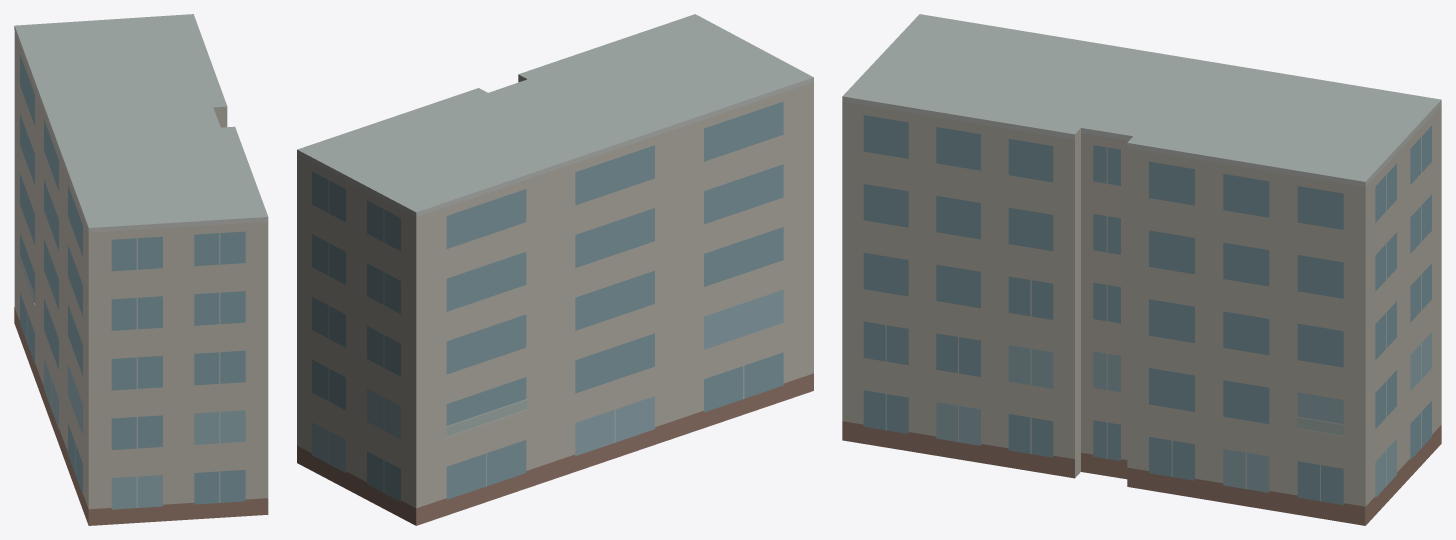
The model's file is survey-upis-32937447.glb.
3 renders of one model, left to right at view 1: azimuth 30°, elevation 25°; view 2: azimuth 150°, elevation 25°; view 3: azimuth 270°, elevation 25°, orthographic. The views are drawn at different scales.
Visible parts, largest first — view 1: survey-upis-32937447.tmp; view 2: survey-upis-32937447.tmp; view 3: survey-upis-32937447.tmp.
Boxes of the visible parts, bbox=[...] form: survey-upis-32937447.tmp: bbox=[14, 14, 268, 525]; survey-upis-32937447.tmp: bbox=[297, 14, 813, 525]; survey-upis-32937447.tmp: bbox=[842, 14, 1441, 525].
Bounding box in the file's own units: 16.76 × 16 × 25.27.
